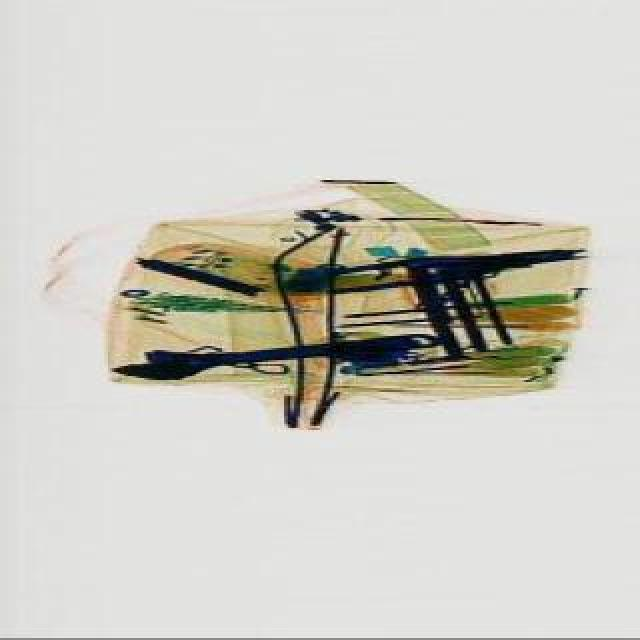scissors: (104, 322, 434, 386)
wrench: (378, 238, 578, 286)
